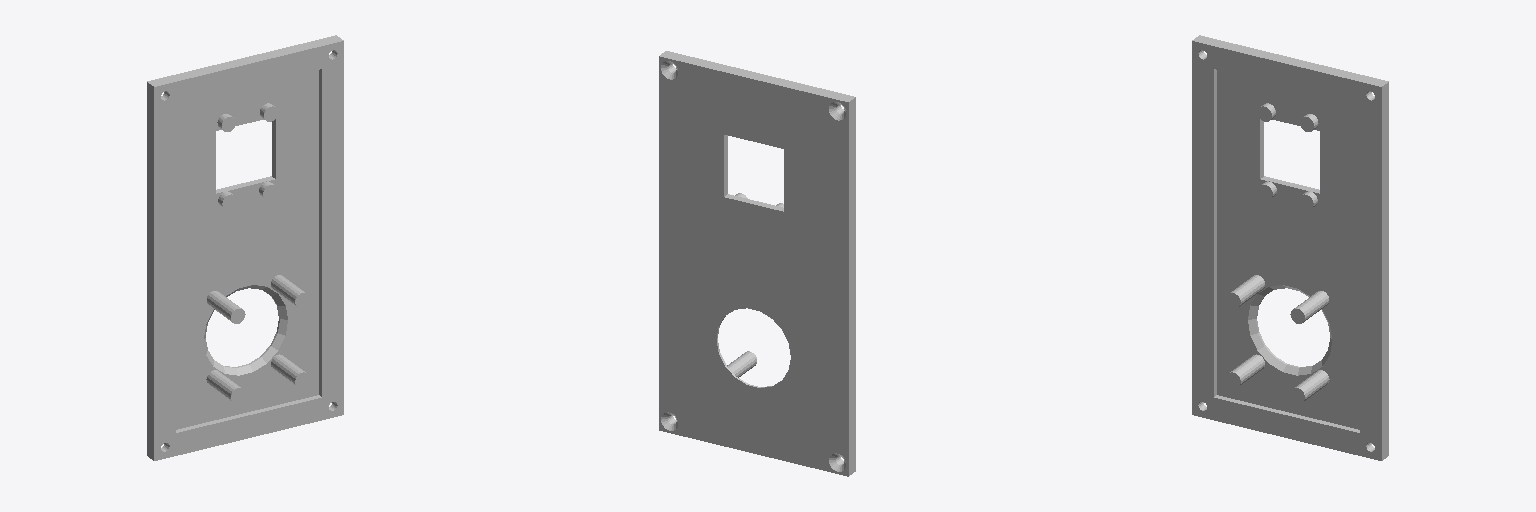
Rendered from front.obj.
3 renders of one model, left to right at view 1: azimuth 30°, elevation 25°; view 2: azimuth 150°, elevation 25°; view 3: azimuth 330°, elevation 25°, orthographic.
Visible parts, largest first — view 1: Body002; view 2: Body002; view 3: Body002.
Boxes of the visible parts, box(x1,y1,x2,y2) form: Body002: box(147, 35, 343, 460); Body002: box(659, 51, 855, 476); Body002: box(1192, 35, 1388, 460).
Size of the model in its own units: 65 by 122 by 17.